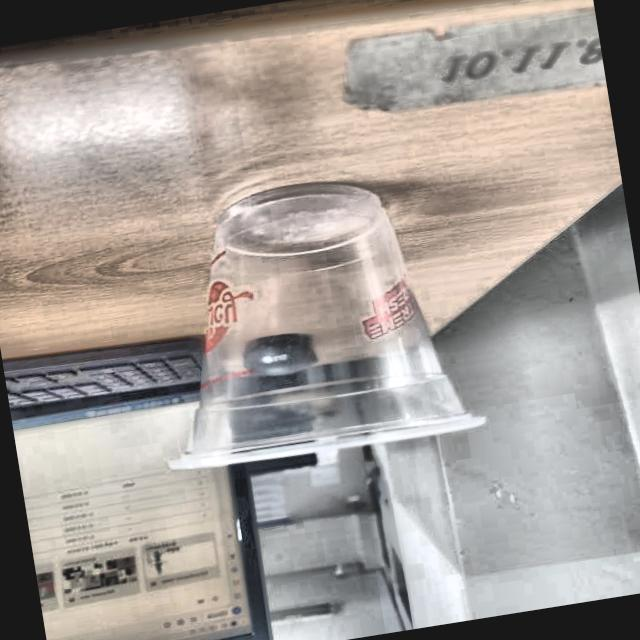plastic cup: (126, 160, 486, 478)
